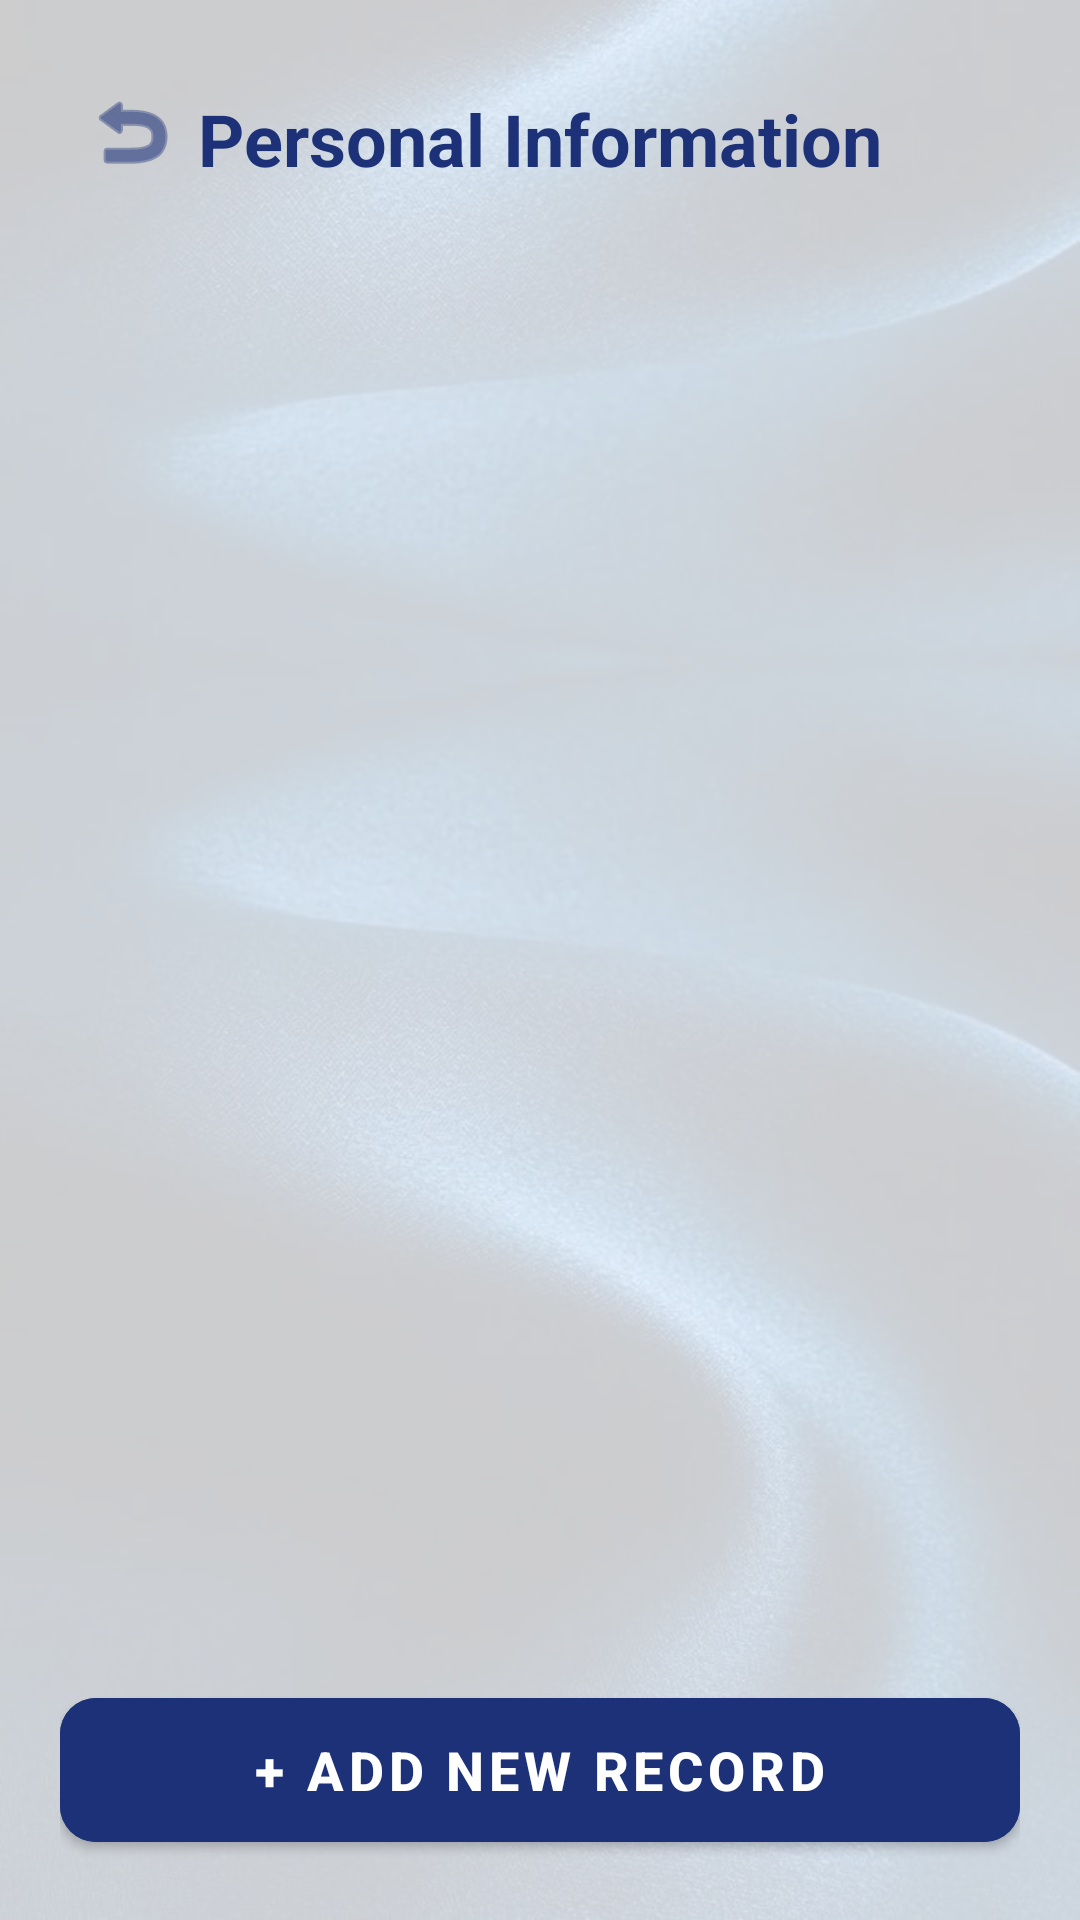

Screen size 1080 x 1920. Icon name, then its center in pixels as (x,y):
Back: (133,132)
